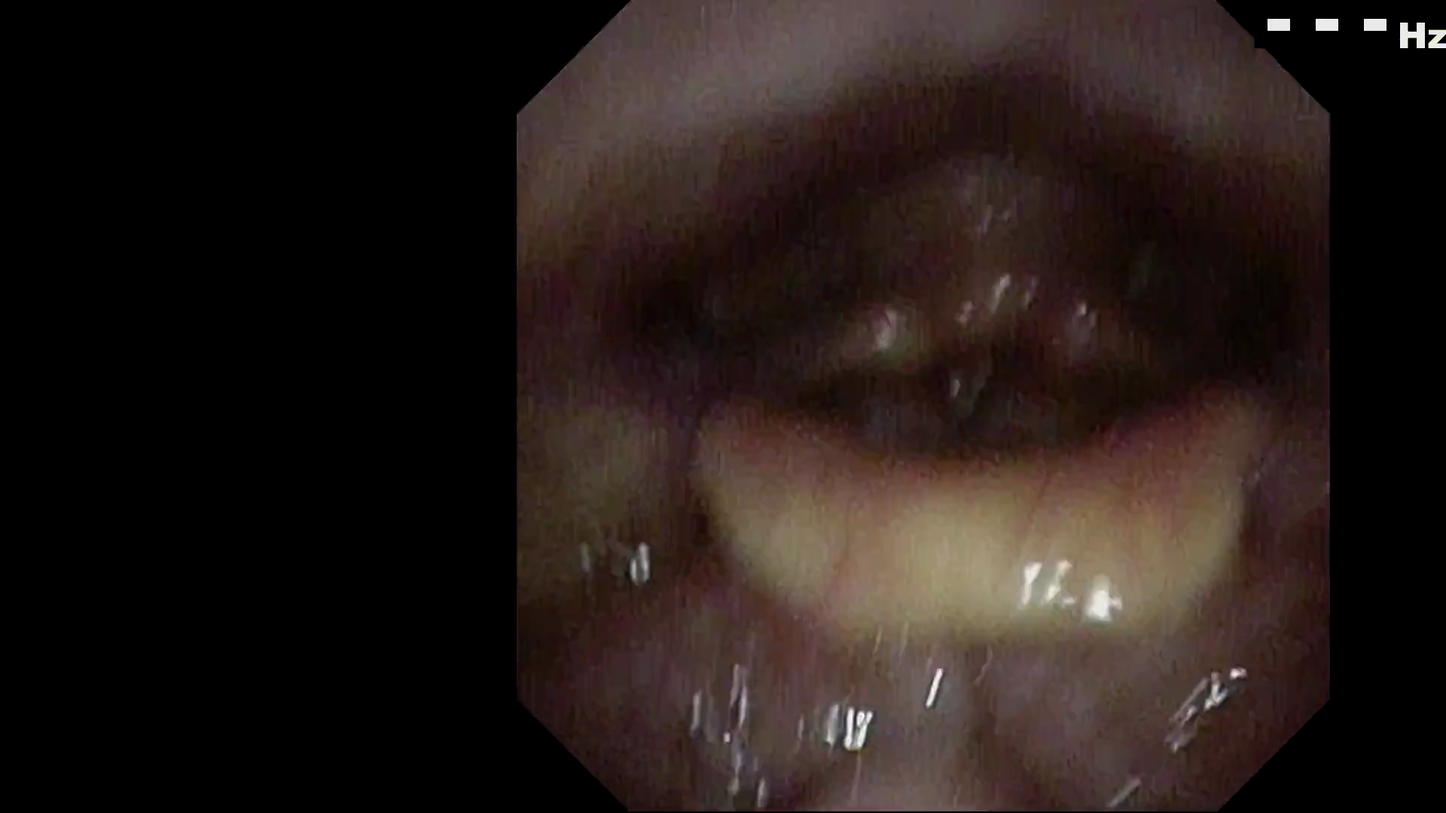epiglottis: (665, 493, 1221, 697)
trachea: (906, 434, 986, 535)
